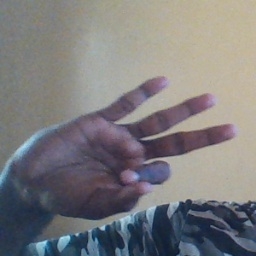K: (23, 75, 241, 223)
